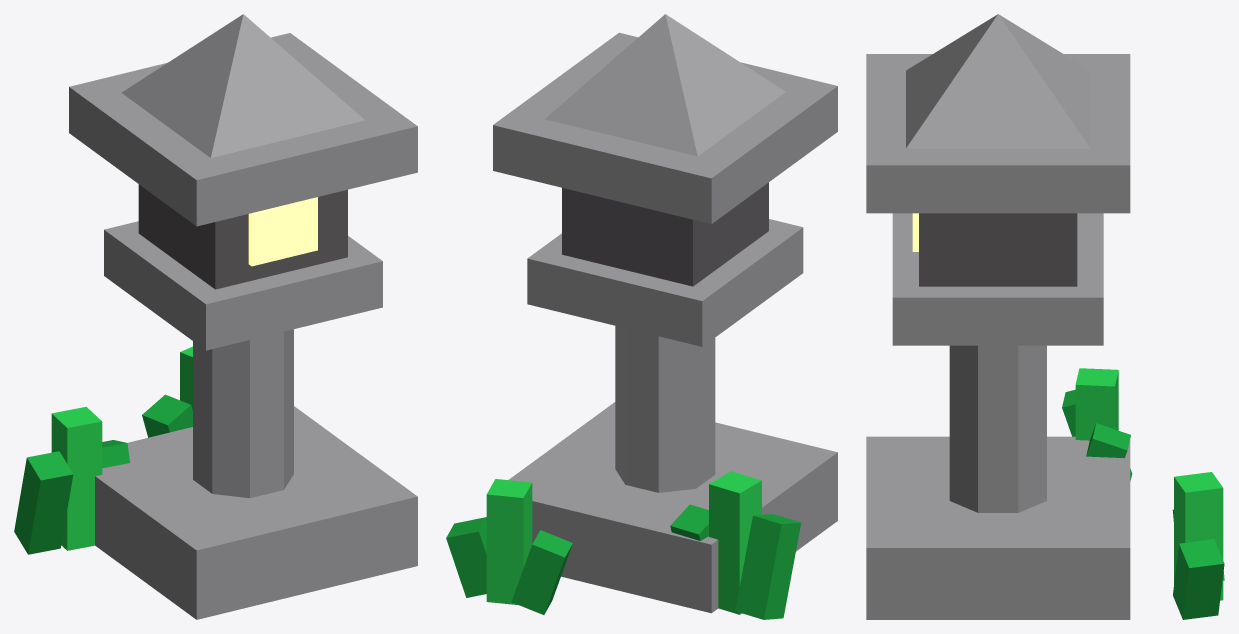
Rendered from StoneLantern.fbx.
3 views of the same model, side by side, from view 1: azimuth 30°, elevation 25°; view 2: azimuth 150°, elevation 25°; view 3: azimuth 270°, elevation 25° (orthographic). The views are drawn at different scales.
Visible parts, largest first — view 1: StoneGrey.001, DarkStone, GrassDark.014, Grass.014, LanternGlow; view 2: StoneGrey.001, DarkStone, GrassDark.014, Grass.014; view 3: StoneGrey.001, DarkStone, Grass.014, GrassDark.014.
Boxes of the visible parts, box(x1,y1,x2,y2) form: StoneGrey.001: box(69, 14, 417, 619); DarkStone: box(138, 184, 347, 289); GrassDark.014: box(14, 394, 192, 554); Grass.014: box(51, 346, 192, 550); LanternGlow: box(248, 197, 317, 266); StoneGrey.001: box(493, 14, 837, 613); DarkStone: box(562, 182, 768, 286); GrassDark.014: box(446, 504, 801, 619); Grass.014: box(486, 471, 761, 614); StoneGrey.001: box(866, 14, 1130, 619); DarkStone: box(919, 213, 1077, 286); Grass.014: box(1075, 368, 1223, 600); GrassDark.014: box(1062, 389, 1224, 619).
Bounding box in the file's own units: 2.63 × 4.63 × 2.72.
